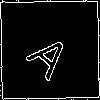A: (25, 25, 82, 83)
